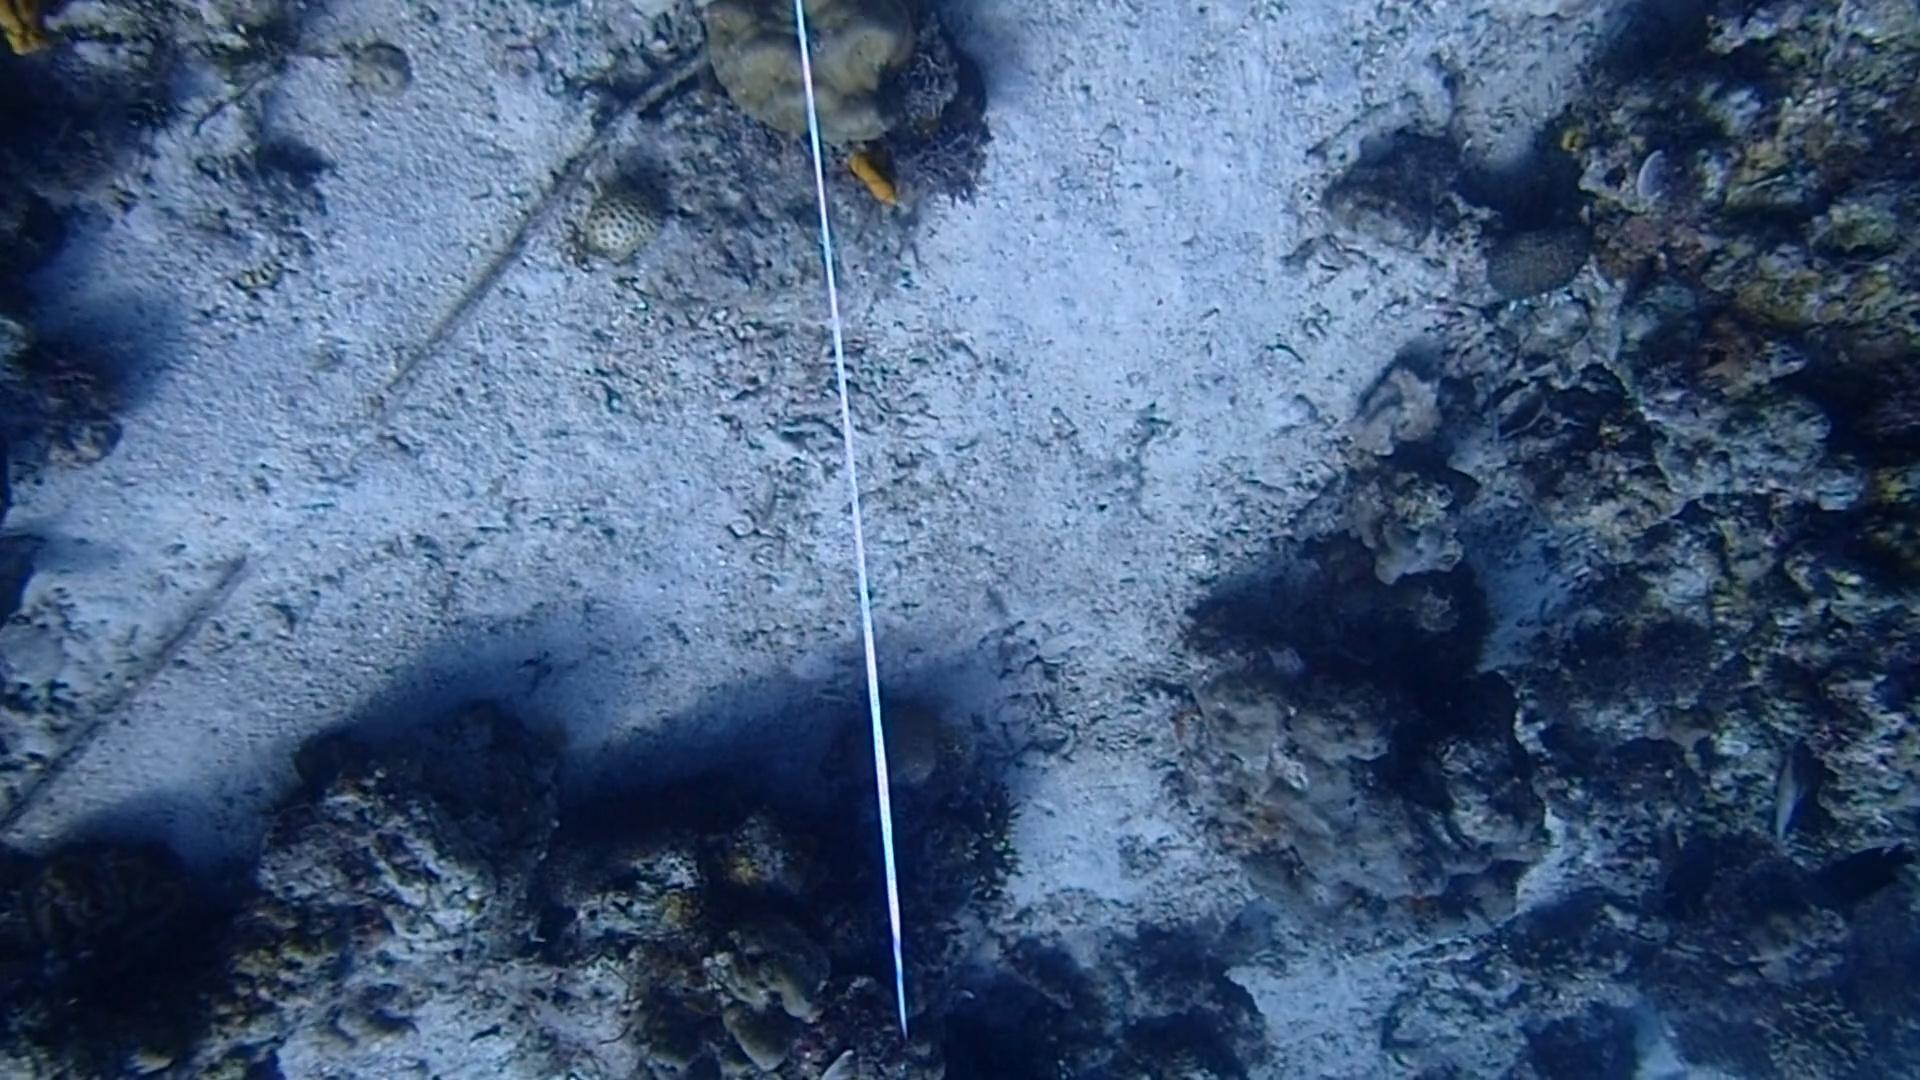Dark Fish: (1797, 836, 1916, 923), (1646, 825, 1734, 938)
